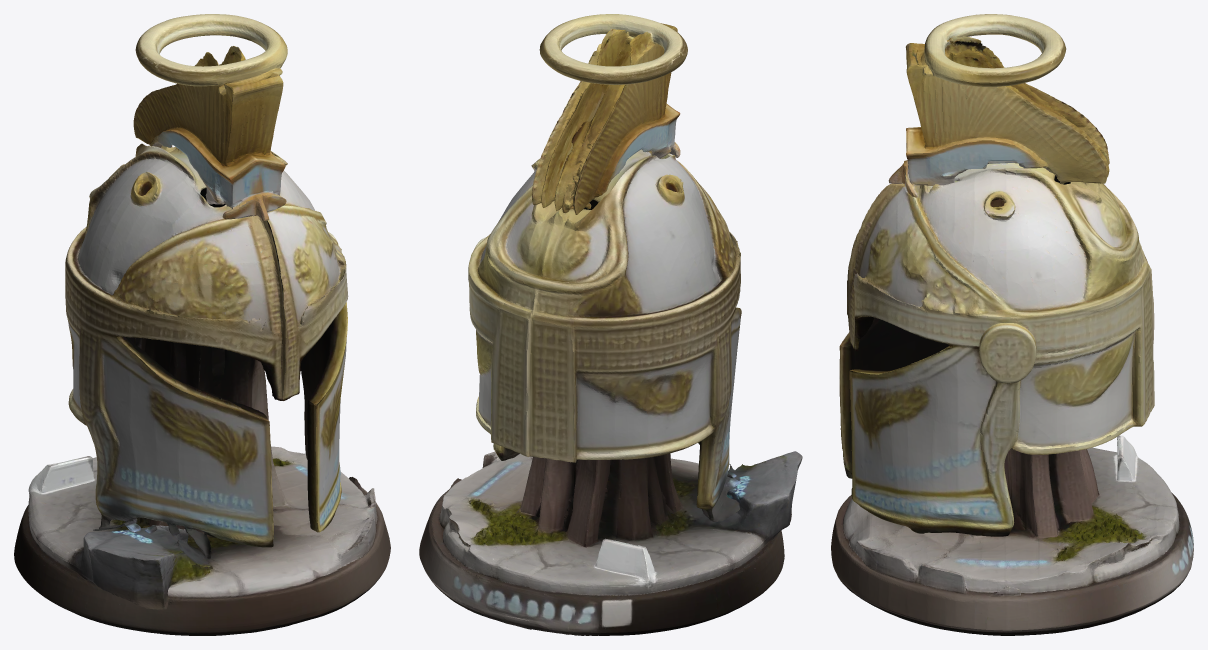
The picture shows the model from 3 angles, left to right: view 1: azimuth 30°, elevation 25°; view 2: azimuth 150°, elevation 25°; view 3: azimuth 270°, elevation 25°; orthographic projection. The views are drawn at different scales.
Visible parts, largest first — view 1: 1, 0, 2; view 2: 1, 0, 2; view 3: 1, 0, 2.
Boxes of the visible parts, x1,y1,x2,y2 form: 1: [65, 143, 348, 558]; 0: [14, 338, 390, 635]; 2: [133, 14, 287, 220]; 1: [468, 149, 741, 521]; 0: [419, 451, 802, 635]; 2: [532, 14, 687, 214]; 1: [839, 163, 1154, 536]; 0: [831, 435, 1193, 635]; 2: [888, 14, 1109, 197].
Bounding box in the file's own units: 0.5972 × 0.9211 × 0.5826.
3 materials, 3 textured.
